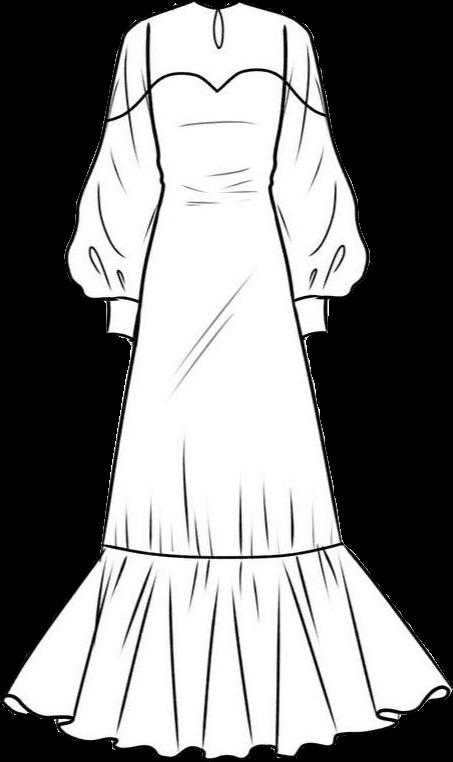Bodice: (144, 2, 288, 197)
Hemline: (3, 685, 452, 761)
Neckline: (146, 65, 283, 94), (186, 0, 243, 17)
Skirt: (4, 194, 451, 758)
Sleeve: (270, 13, 369, 338), (64, 19, 161, 343)
Sleeveline: (283, 80, 328, 119), (103, 88, 147, 125), (137, 17, 151, 94), (283, 18, 297, 83), (296, 289, 330, 303), (106, 293, 137, 303)
Waistline: (99, 539, 344, 565)
